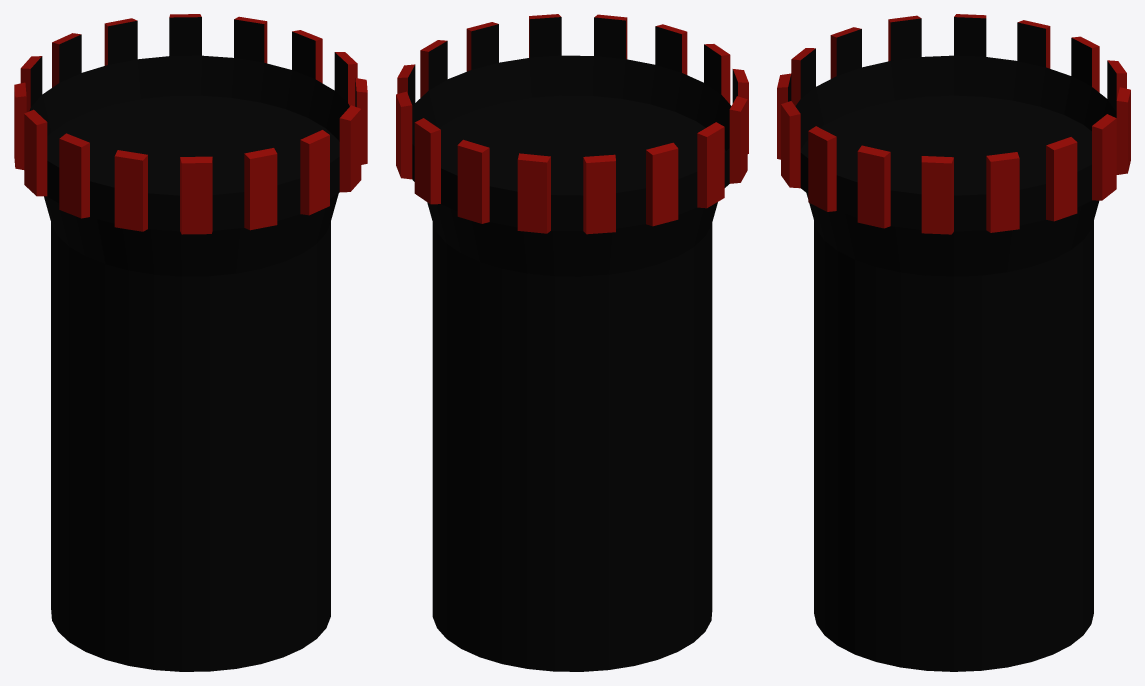
File: CastleTower.fbx
3 views of the same model, side by side, from view 1: azimuth 30°, elevation 25°; view 2: azimuth 150°, elevation 25°; view 3: azimuth 270°, elevation 25° (orthographic).
Parts seen in each view (by area): view 1: Cylinder; view 2: Cylinder; view 3: Cylinder.
Boxes of the visible parts, x1,y1,x2,y2 form: Cylinder: [14, 14, 367, 671]; Cylinder: [396, 14, 748, 671]; Cylinder: [777, 14, 1130, 671].
Size of the model in its own units: 11358 by 18621 by 11358.
